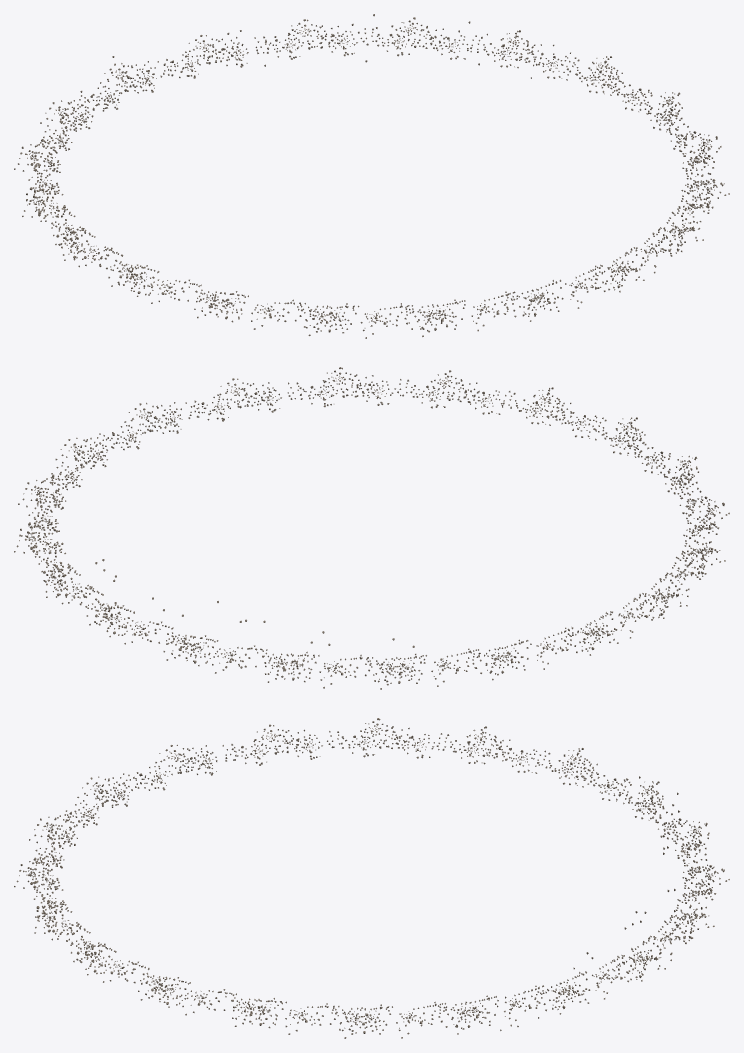
File: asteroids.glb
3 views of the same model, one above another, from view 1: azimuth 30°, elevation 25°; view 2: azimuth 150°, elevation 25°; view 3: azimuth 270°, elevation 25° (orthographic).
Parts seen in each view (by area): view 1: asteroids_belt_2, asteroids_belt_1; view 2: asteroids_belt_2, asteroids_belt_1; view 3: asteroids_belt_2, asteroids_belt_1.
Part boxes in pixels (x1,y1,x2,y2): asteroids_belt_2: (28, 28, 715, 338); asteroids_belt_1: (14, 14, 729, 333); asteroids_belt_2: (28, 378, 716, 689); asteroids_belt_1: (14, 367, 729, 683); asteroids_belt_2: (29, 730, 713, 1038); asteroids_belt_1: (14, 718, 729, 1034).
Size of the model in its own units: 2 by 0.1751 by 2.
